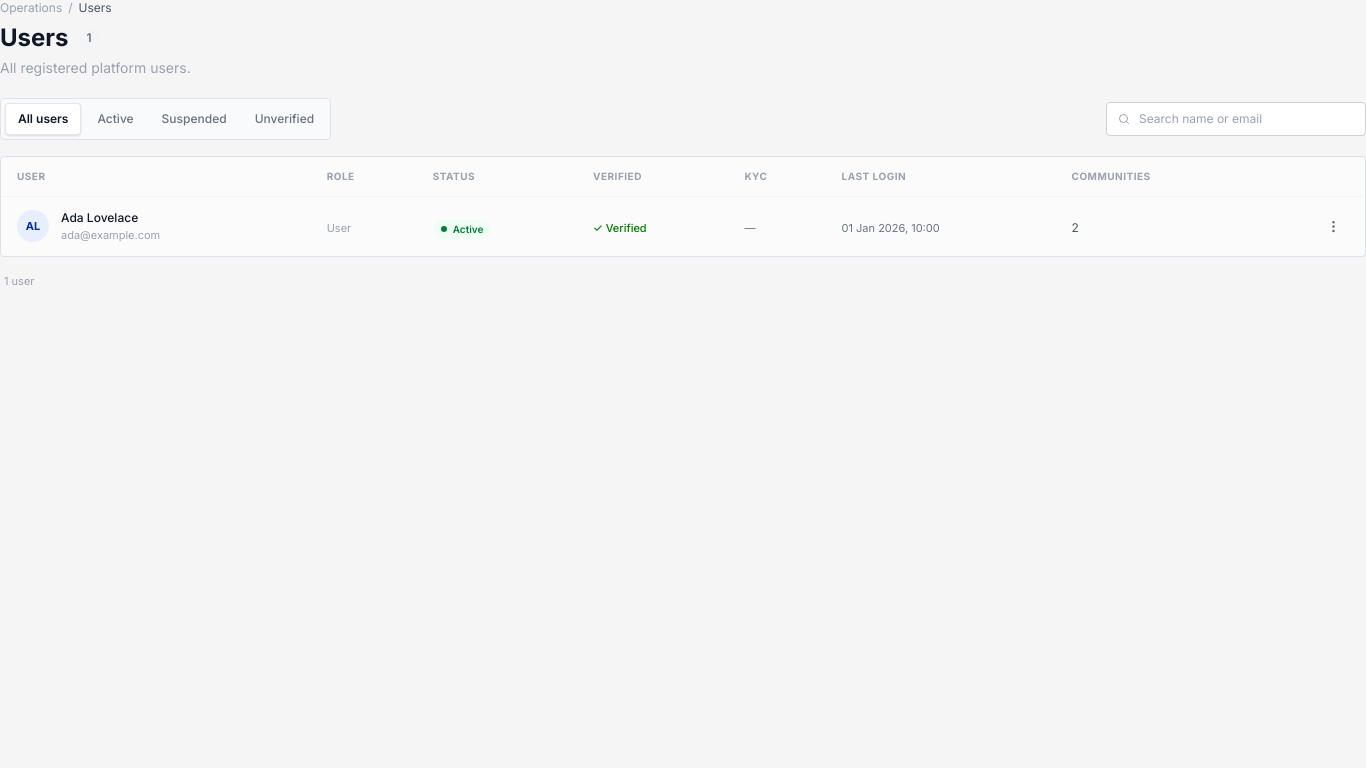
UsersSection — details › shows missing metrics as unavailable instead of zero
This screenshot has width=1366, height=768.
Step 1. Click the text "ada@example.com" → [33, 226], box [1, 196, 1365, 256]
(page scrolled)
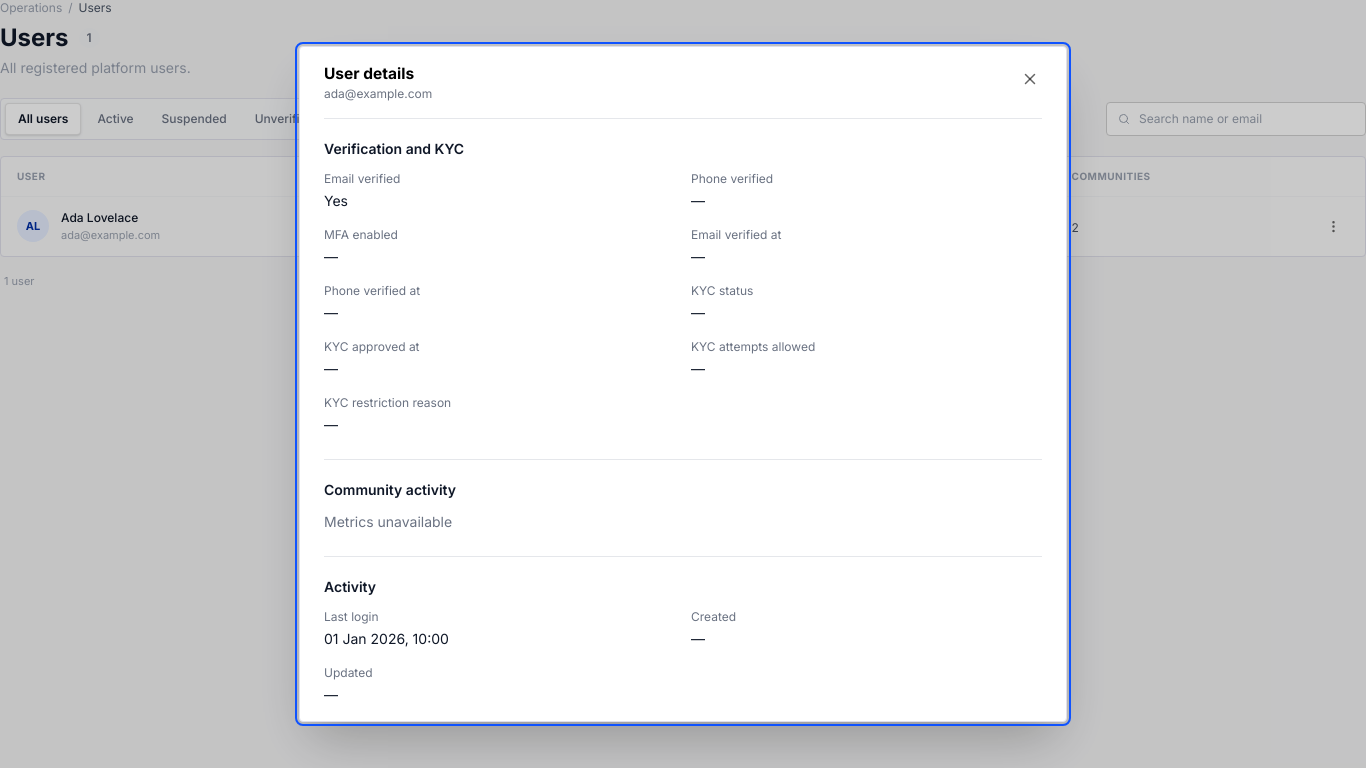
Expected: the text "Metrics unavailable" is shown, [324, 513, 452, 530]
